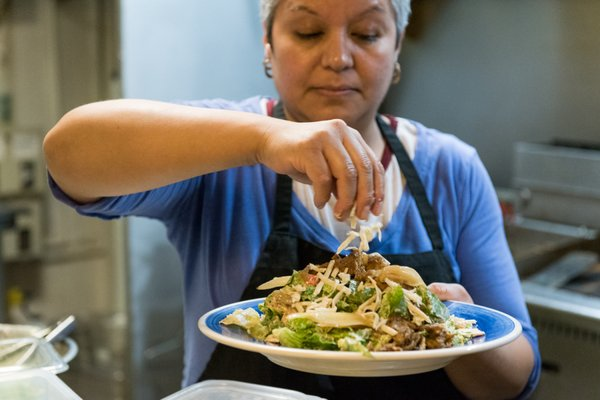pizza: (55, 0, 546, 388)
